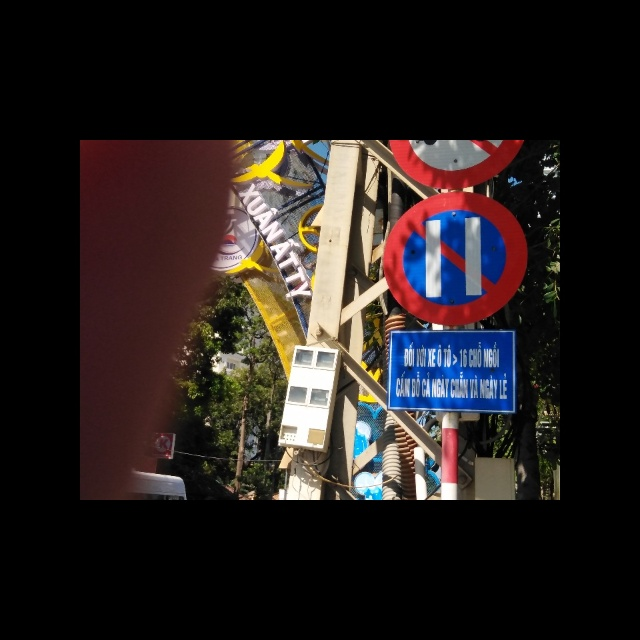Cấm đỗ xe ngày chẵn: (379, 190, 525, 331)
